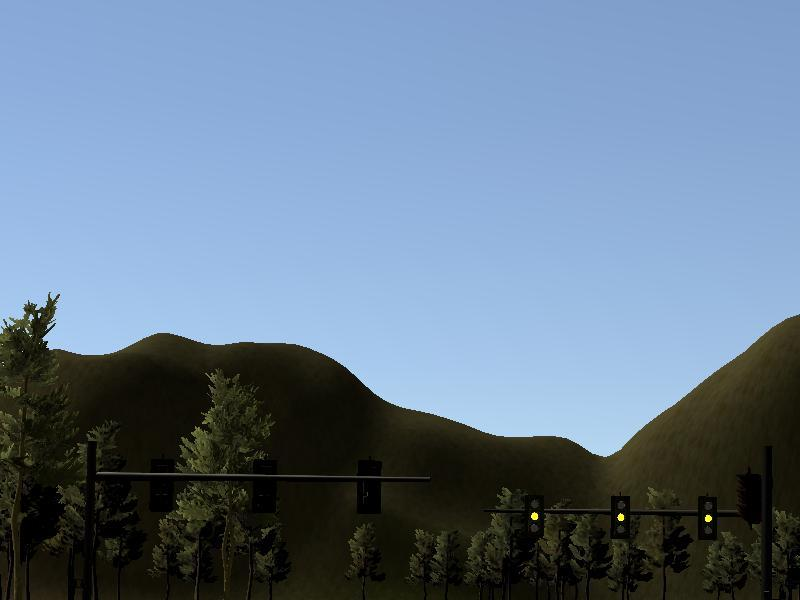Yellow: (610, 495, 631, 538), (697, 497, 716, 540), (526, 494, 544, 537)
